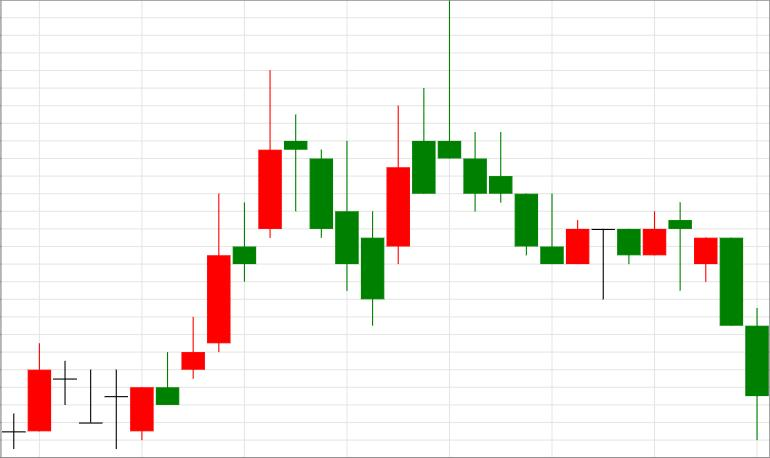evening_star_fall: (131, 71, 332, 439)
